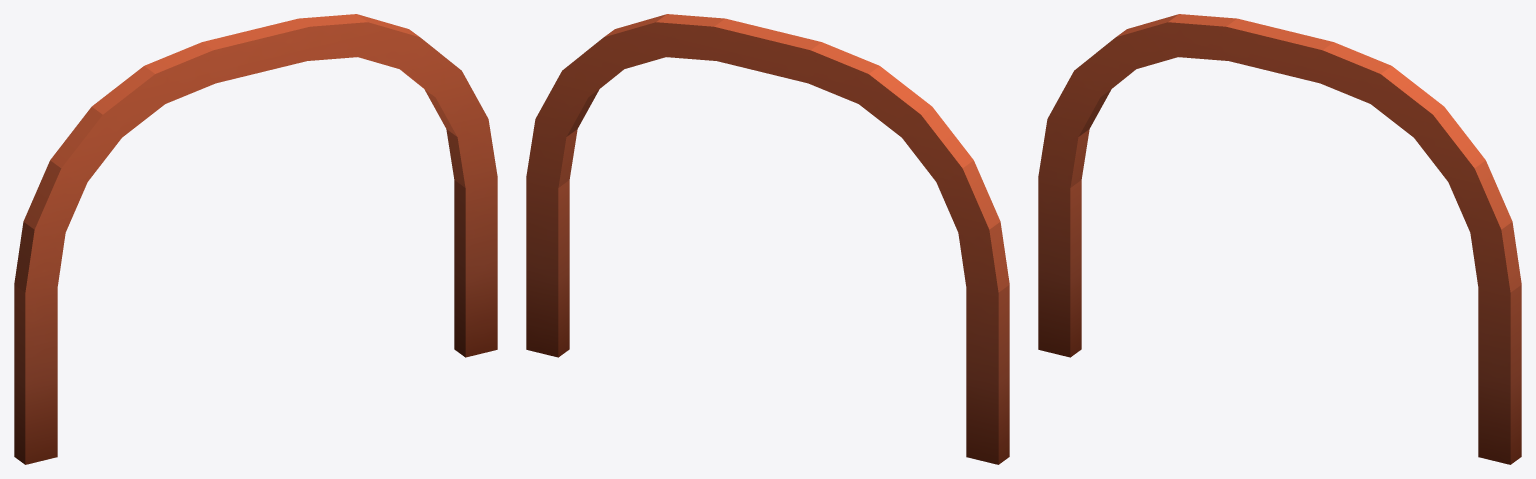
Rendered from entry_sm.obj.
3 renders of one model, left to right at view 1: azimuth 30°, elevation 25°; view 2: azimuth 150°, elevation 25°; view 3: azimuth 330°, elevation 25°, orthographic.
Parts seen in each view (by area): view 1: entry_sm; view 2: entry_sm; view 3: entry_sm.
Part boxes in pixels (box(x1,y1,x2,y2)): entry_sm: box(14, 14, 497, 464); entry_sm: box(526, 14, 1009, 464); entry_sm: box(1038, 14, 1521, 464).
Size of the model in its own units: 5.48 by 4.09 by 0.2255.
